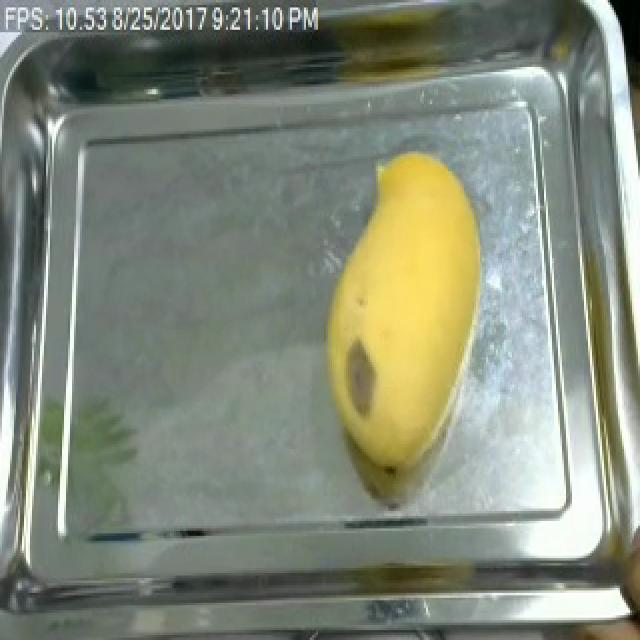fruit: (308, 134, 500, 489)
